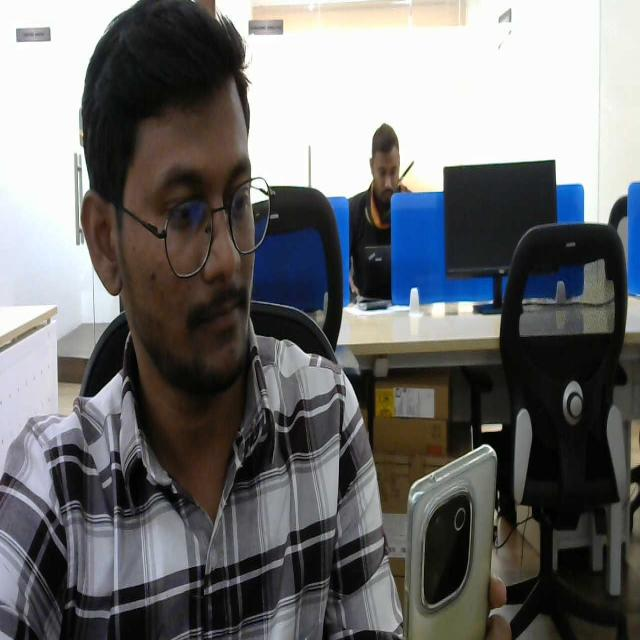phone: (409, 444, 497, 636)
